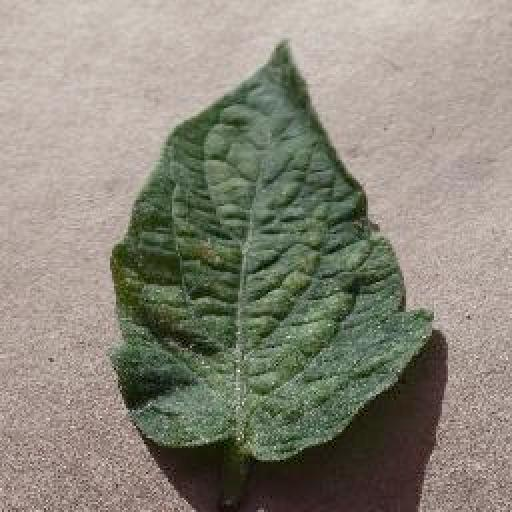disease_tomato: (111, 36, 433, 462)
